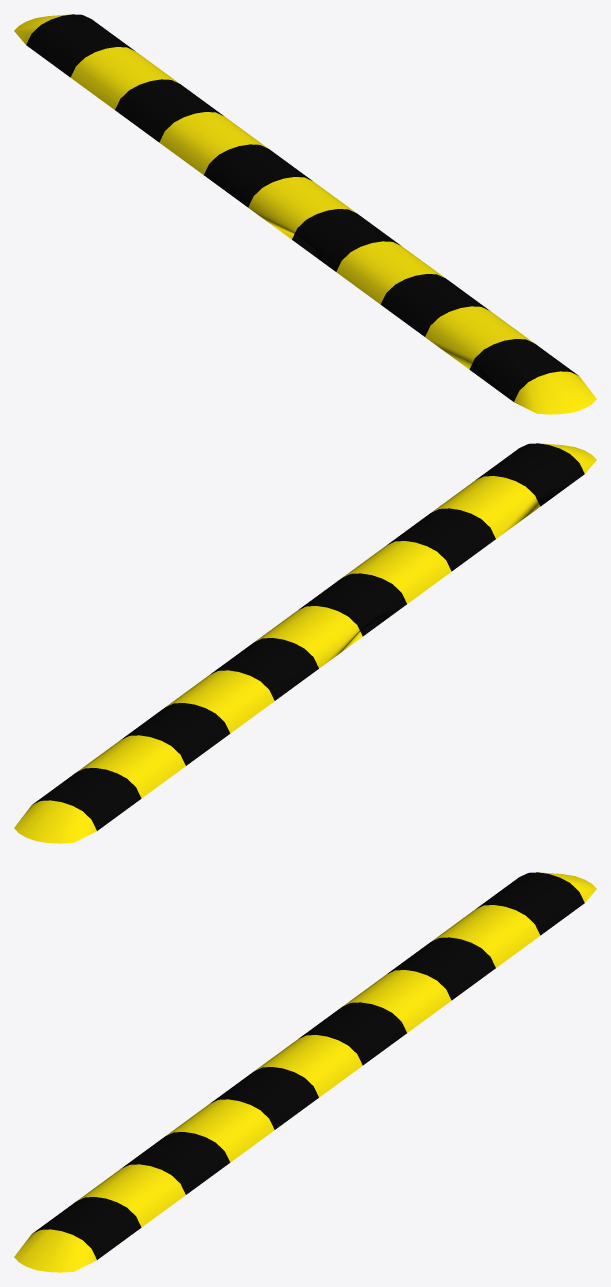
Rendered from speedbump.dae.
3 views of the same model, one above another, from view 1: azimuth 30°, elevation 25°; view 2: azimuth 150°, elevation 25°; view 3: azimuth 330°, elevation 25° (orthographic).
Parts seen in each view (by area): view 1: SpeedBumper; view 2: SpeedBumper; view 3: SpeedBumper.
Boxes of the visible parts, box(x1,y1,x2,y2) form: SpeedBumper: box(14, 14, 596, 414); SpeedBumper: box(14, 443, 596, 843); SpeedBumper: box(14, 872, 596, 1272).
Bounding box in the file's own units: 0.2588 × 3.4 × 0.0713.
